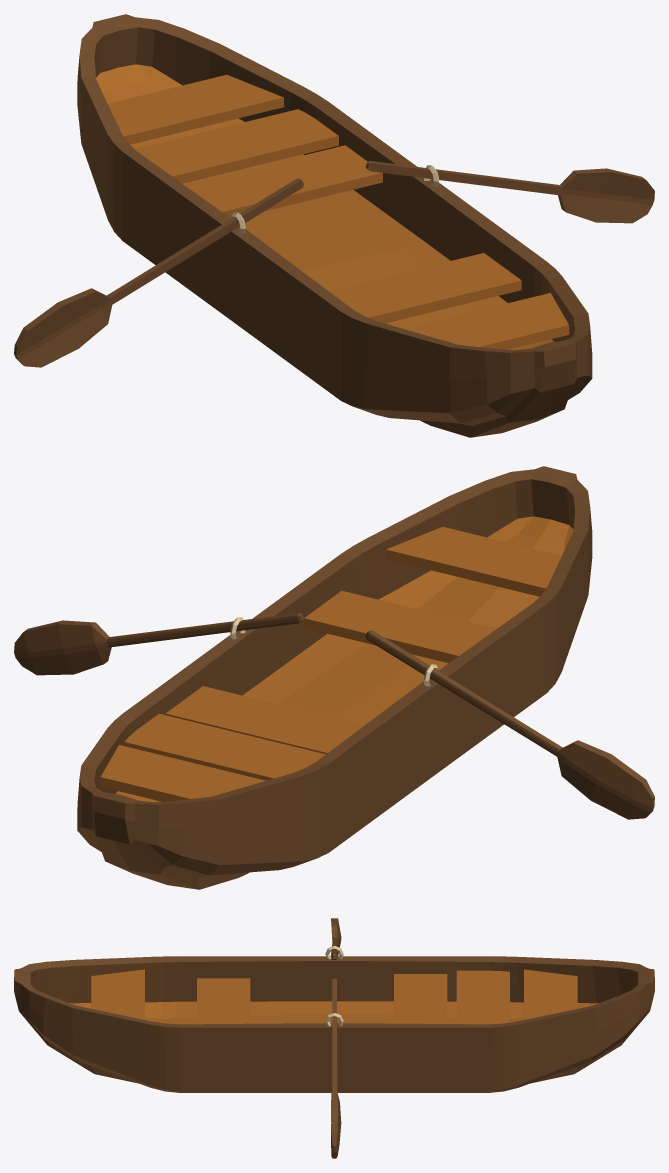
File: Boat_Prop.fbx
3 views of the same model, one above another, from view 1: azimuth 30°, elevation 25°; view 2: azimuth 150°, elevation 25°; view 3: azimuth 270°, elevation 25° (orthographic). The views are drawn at different scales.
Visible parts, largest first — view 1: Boat, Plank, Plank.001, Rowers, Cube.001, Plank.002, Rowers.001, Cube.002; view 2: Boat, Rowers, Plank.001, Cube.002, Plank, Rowers.001, Plank.002, Cube.001; view 3: Boat, Plank, Plank.002, Plank.001, Cube.002, Cube.001, Rowers.001.
Boxes of the visible parts, x1=… form: Boat: x1=77, y1=14, x2=592, y2=437; Plank: x1=135, y1=109, x2=338, y2=183; Plank.001: x1=328, y1=253, x2=521, y2=323; Rowers: x1=14, y1=178, x2=303, y2=367; Cube.001: x1=108, y1=74, x2=284, y2=144; Plank.002: x1=184, y1=145, x2=382, y2=218; Rowers.001: x1=365, y1=161, x2=654, y2=223; Cube.002: x1=403, y1=293, x2=569, y2=349; Boat: x1=77, y1=466, x2=592, y2=889; Rowers: x1=365, y1=630, x2=654, y2=819; Plank.001: x1=304, y1=590, x2=496, y2=663; Cube.002: x1=385, y1=526, x2=561, y2=596; Plank: x1=124, y1=713, x2=325, y2=780; Rowers.001: x1=14, y1=613, x2=303, y2=675; Plank.002: x1=165, y1=686, x2=364, y2=754; Cube.001: x1=100, y1=745, x2=265, y2=801; Boat: x1=14, y1=956, x2=654, y2=1092; Plank: x1=456, y1=970, x2=509, y2=1024; Plank.002: x1=394, y1=974, x2=447, y2=1023; Plank.001: x1=197, y1=978, x2=250, y2=1024; Cube.002: x1=91, y1=969, x2=144, y2=1019; Cube.001: x1=524, y1=969, x2=577, y2=1019; Rowers.001: x1=331, y1=978, x2=341, y2=1158.
Size of the model in its own units: 1498 by 344 by 1834.
